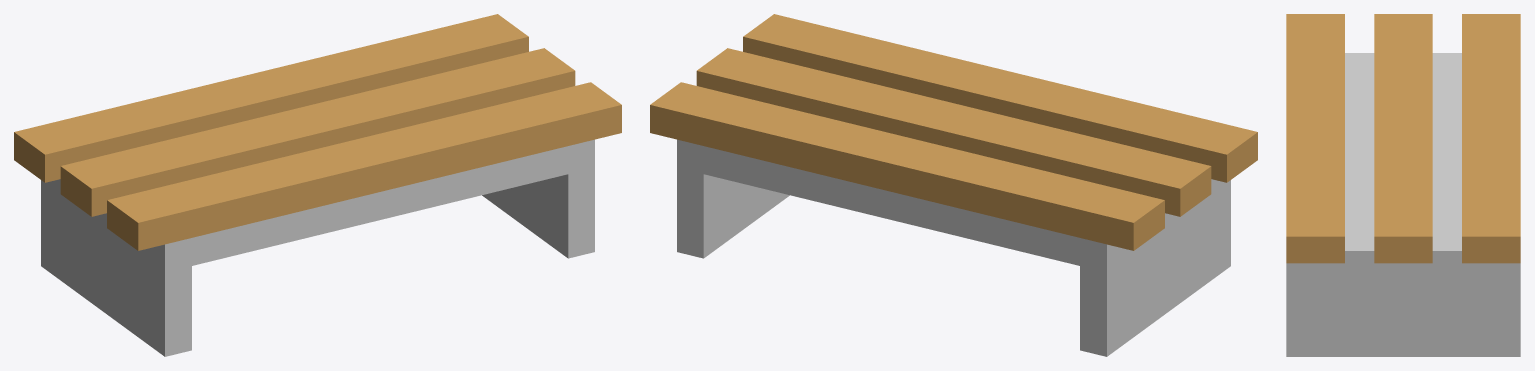
The model's file is Bench.fbx.
The picture shows the model from 3 angles, left to right: view 1: azimuth 30°, elevation 25°; view 2: azimuth 150°, elevation 25°; view 3: azimuth 270°, elevation 25°; orthographic projection. The views are drawn at different scales.
Parts seen in each view (by area): view 1: 立方体.177, 立方体.249, 立方体.213, 立方体.033, 立方体.001, 立方体.002, 立方体.017, 立方体.018, 立方体.192, 立方体.180, 立方体.181, 立方体.182 (+68 smaller); view 2: 立方体.267, 立方体.195, 立方体.231, 立方体.047, 立方体.015, 立方体.016, 立方体.031, 立方体.032, 立方体.282, 立方体.270, 立方体.271, 立方体.272 (+68 smaller); view 3: 立方体.194, 立方体.230, 立方体.284, 立方体.096, 立方体.144, 立方体.212, 立方体.248, 立方体.266, 立方体.002, 立方体.004, 立方体.006, 立方体.008 (+158 smaller).
Boxes of the visible parts, x1=… form: 立方体.177: x1=122, y1=205, x2=164, y2=250; 立方体.249: x1=29, y1=137, x2=71, y2=182; 立方体.213: x1=76, y1=171, x2=118, y2=216; 立方体.033: x1=149, y1=261, x2=191, y2=300; 立方体.001: x1=149, y1=318, x2=191, y2=356; 立方体.002: x1=552, y1=219, x2=594, y2=258; 立方体.017: x1=149, y1=290, x2=191, y2=328; 立方体.018: x1=552, y1=191, x2=594, y2=230; 立方体.192: x1=526, y1=106, x2=568, y2=152; 立方体.180: x1=203, y1=185, x2=245, y2=231; 立方体.181: x1=230, y1=179, x2=272, y2=224; 立方体.182: x1=257, y1=172, x2=299, y2=217; 立方体.267: x1=1107, y1=205, x2=1149, y2=250; 立方体.195: x1=1200, y1=137, x2=1242, y2=182; 立方体.231: x1=1153, y1=171, x2=1195, y2=216; 立方体.047: x1=1080, y1=261, x2=1122, y2=300; 立方体.015: x1=1080, y1=318, x2=1122, y2=356; 立方体.016: x1=677, y1=219, x2=719, y2=258; 立方体.031: x1=1080, y1=290, x2=1122, y2=328; 立方体.032: x1=677, y1=191, x2=719, y2=230; 立方体.282: x1=703, y1=106, x2=745, y2=152; 立方体.270: x1=1026, y1=185, x2=1068, y2=231; 立方体.271: x1=999, y1=179, x2=1041, y2=224; 立方体.272: x1=972, y1=172, x2=1014, y2=217; 立方体.194: x1=1286, y1=224, x2=1315, y2=263; 立方体.230: x1=1374, y1=224, x2=1403, y2=263; 立方体.284: x1=1491, y1=224, x2=1520, y2=263; 立方体.096: x1=1345, y1=238, x2=1374, y2=277; 立方体.144: x1=1432, y1=238, x2=1461, y2=277; 立方体.212: x1=1315, y1=224, x2=1344, y2=263; 立方体.248: x1=1403, y1=224, x2=1432, y2=263; 立方体.266: x1=1462, y1=224, x2=1491, y2=263; 立方体.002: x1=1286, y1=330, x2=1315, y2=356; 立方体.004: x1=1315, y1=330, x2=1344, y2=356; 立方体.006: x1=1345, y1=330, x2=1374, y2=356; 立方体.008: x1=1374, y1=330, x2=1403, y2=356.
Bounding box in the file's own units: 1800 × 500 × 800.
